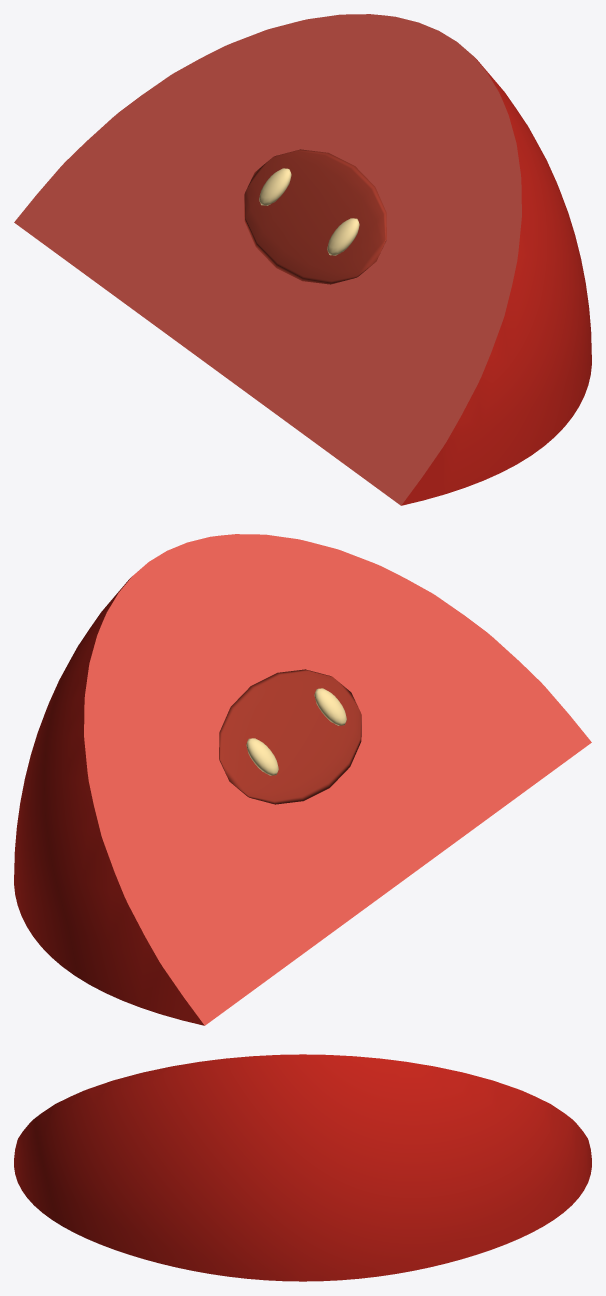
The model's file is cherry_chunk.glb.
The picture shows the model from 3 angles, top to bottom: view 1: azimuth 30°, elevation 25°; view 2: azimuth 150°, elevation 25°; view 3: azimuth 270°, elevation 25°; orthographic projection. The views are drawn at different scales.
Parts seen in each view (by area): view 1: Prepared right half, Eighth seed chamber, Eighth seed.001, Eighth seed; view 2: Prepared right half, Eighth seed chamber, Eighth seed, Eighth seed.001; view 3: Prepared right half.
Boxes of the visible parts, bbox=[...] form: Prepared right half: bbox=[14, 14, 591, 505]; Eighth seed chamber: bbox=[244, 149, 386, 284]; Eighth seed.001: bbox=[327, 218, 359, 255]; Eighth seed: bbox=[259, 168, 291, 205]; Prepared right half: bbox=[14, 534, 591, 1025]; Eighth seed chamber: bbox=[219, 669, 361, 804]; Eighth seed: bbox=[246, 738, 278, 775]; Eighth seed.001: bbox=[314, 688, 346, 725]; Prepared right half: bbox=[14, 1054, 591, 1281].
Bounding box in the file's own units: 0.5443 × 0.4022 × 1.08.
